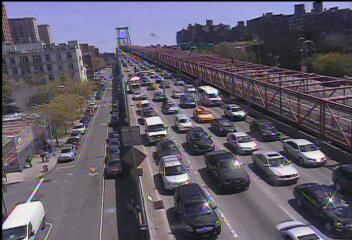neg: (122, 193, 141, 219), (232, 195, 248, 217), (158, 95, 174, 116), (34, 173, 47, 190), (236, 107, 247, 122), (88, 163, 98, 176), (71, 141, 80, 154), (144, 29, 153, 42), (192, 106, 201, 118)
pos: (36, 149, 48, 164), (22, 154, 33, 169), (42, 148, 53, 162)
